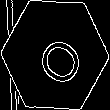O_NW: (26, 23, 84, 87)
